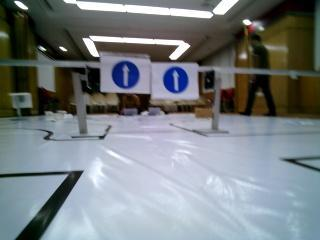straight: (103, 53, 147, 93), (155, 61, 198, 100)
